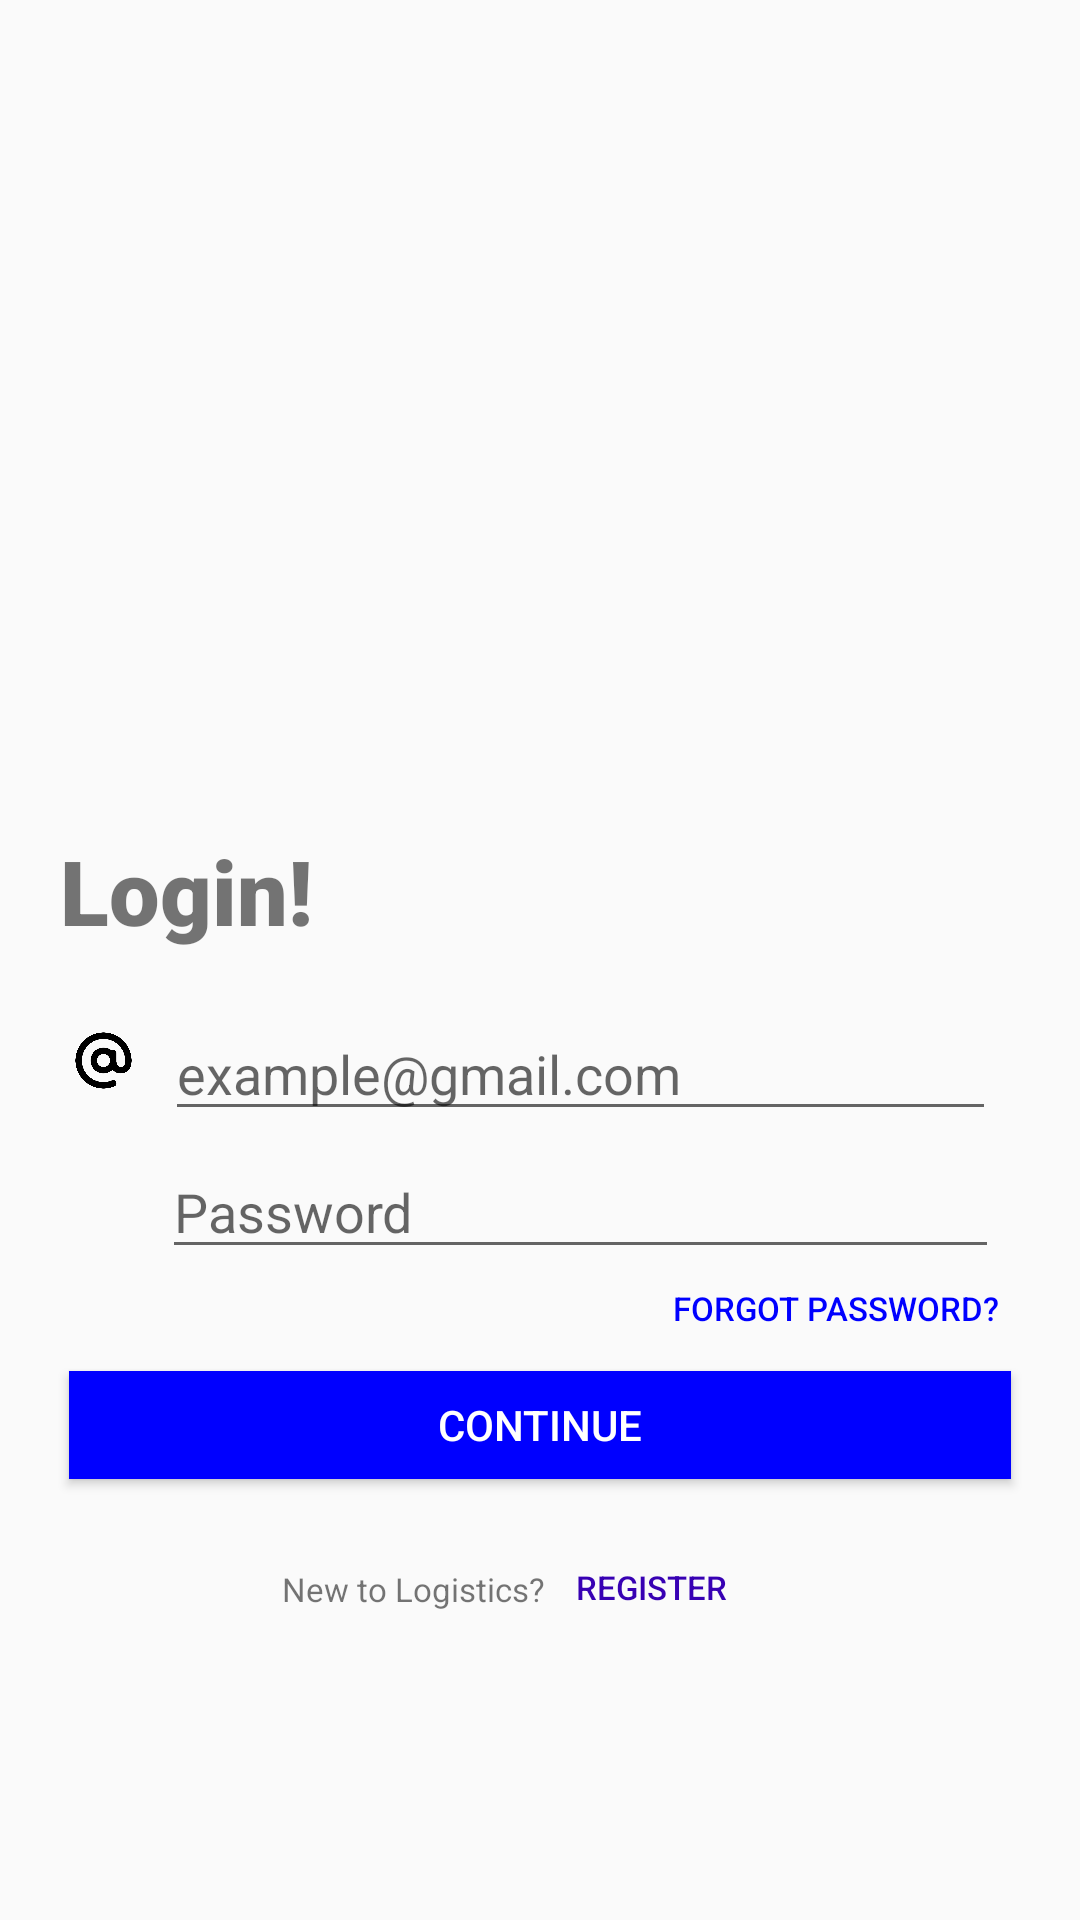

Locate icon controls on the screen. Image size 1080x1920, boxes as (x1, y1, x2, y2).
at the rate: (75, 1032, 132, 1089)
